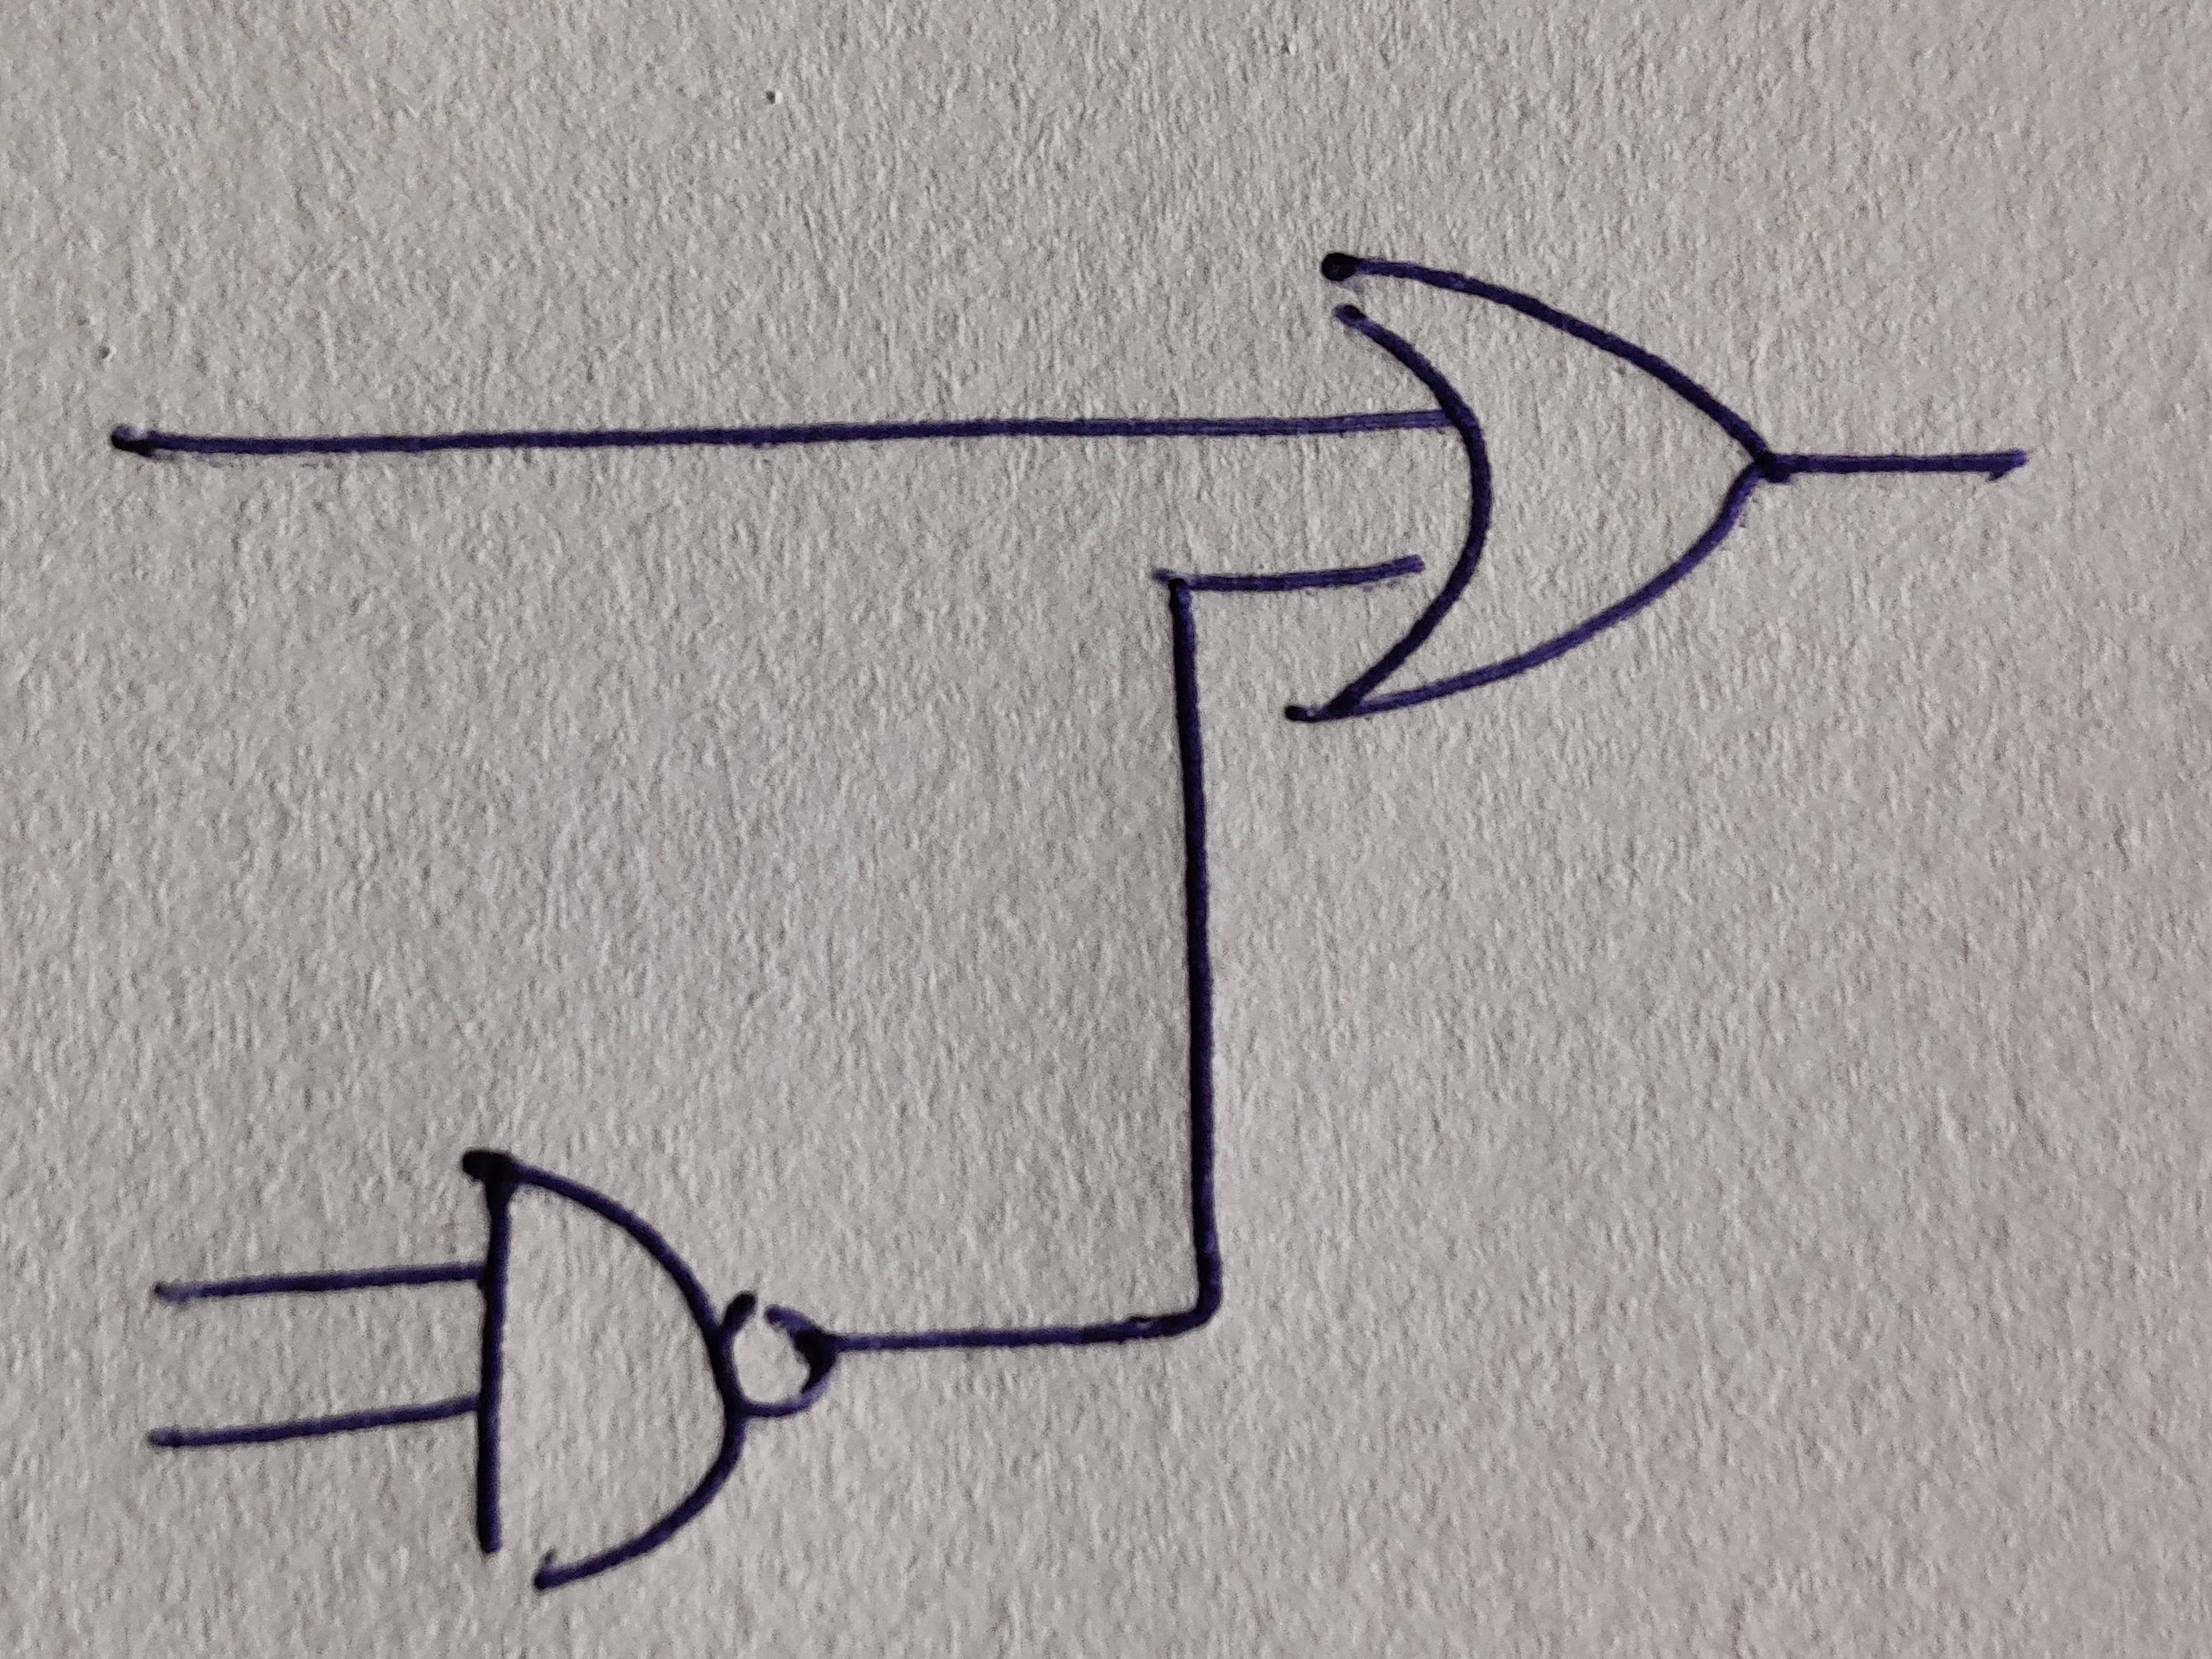and: (463, 1150, 747, 1593)
not: (723, 1291, 833, 1417)
or: (1284, 251, 1775, 723)
